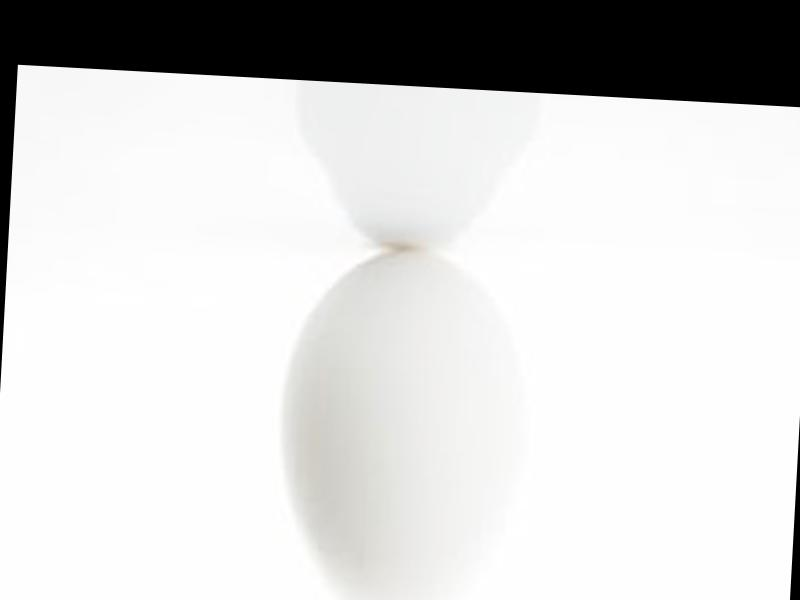Eggs: (270, 243, 526, 600)
